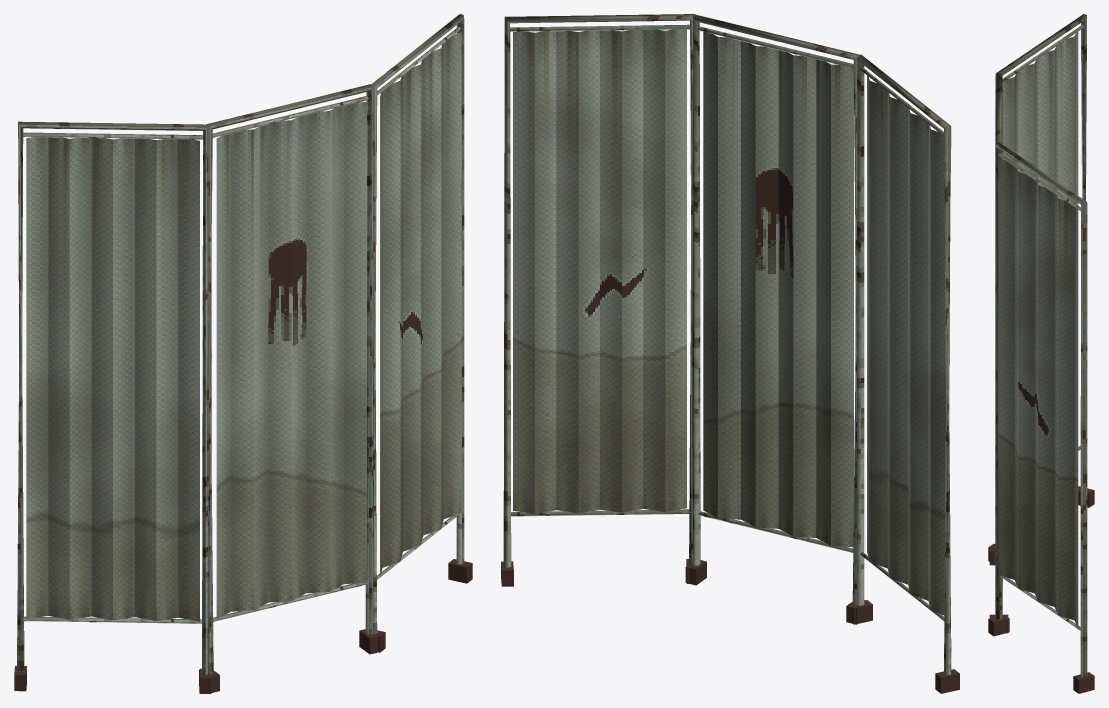
The model's file is folding_screen.glb.
3 views of the same model, side by side, from view 1: azimuth 30°, elevation 25°; view 2: azimuth 150°, elevation 25°; view 3: azimuth 270°, elevation 25° (orthographic). The views are drawn at different scales.
Visible parts, largest first — view 1: folding_screen; view 2: folding_screen; view 3: folding_screen.
Part boxes in pixels (bbox=[...]): folding_screen: bbox=[14, 14, 472, 693]; folding_screen: bbox=[501, 14, 959, 693]; folding_screen: bbox=[988, 14, 1094, 693].
Size of the model in its own units: 1.49 by 1.75 by 0.3445.
1 material, 1 textured.
